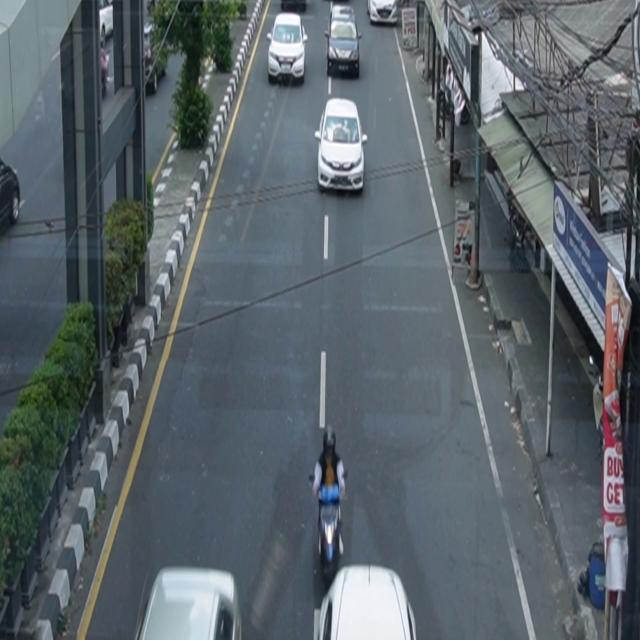car: (314, 565, 418, 640), (137, 567, 243, 640), (315, 98, 369, 194), (267, 12, 309, 85), (1, 157, 21, 235), (367, 1, 398, 26)
